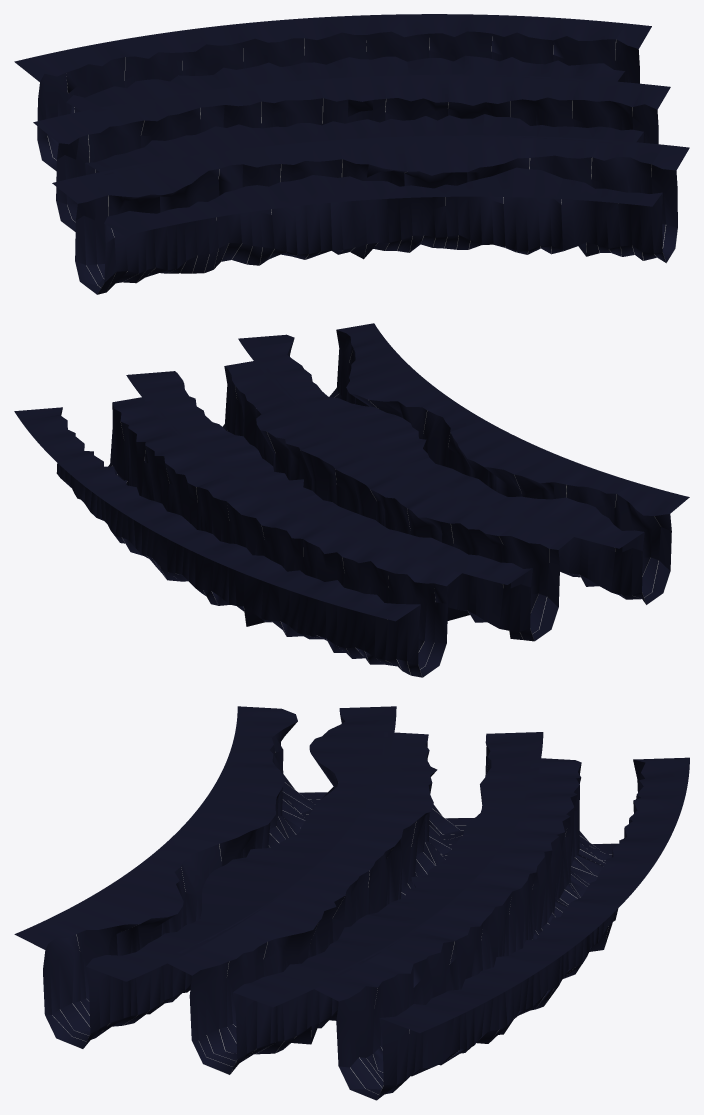
The model's file is rightcurvelight.FBX.
3 renders of one model, top to bottom at view 1: azimuth 30°, elevation 25°; view 2: azimuth 150°, elevation 25°; view 3: azimuth 270°, elevation 25°, orthographic. The views are drawn at different scales.
Parts seen in each view (by area): view 1: rightcurvelight002, rightcurvelight003, rightcurvelight001; view 2: rightcurvelight003, rightcurvelight002, rightcurvelight001; view 3: rightcurvelight003, rightcurvelight002, rightcurvelight001.
Part boxes in pixels (x1,y1,x2,y2): rightcurvelight002: (52,135,689,294); rightcurvelight003: (14,14,651,171); rightcurvelight001: (33,74,670,231); rightcurvelight003: (14,397,461,677); rightcurvelight002: (238,323,689,604); rightcurvelight001: (126,361,577,641); rightcurvelight003: (314,757,689,1100); rightcurvelight002: (14,706,396,1048); rightcurvelight001: (168,732,543,1074).
Bounding box in the file's own units: 7.42 × 0.9882 × 6.49.
